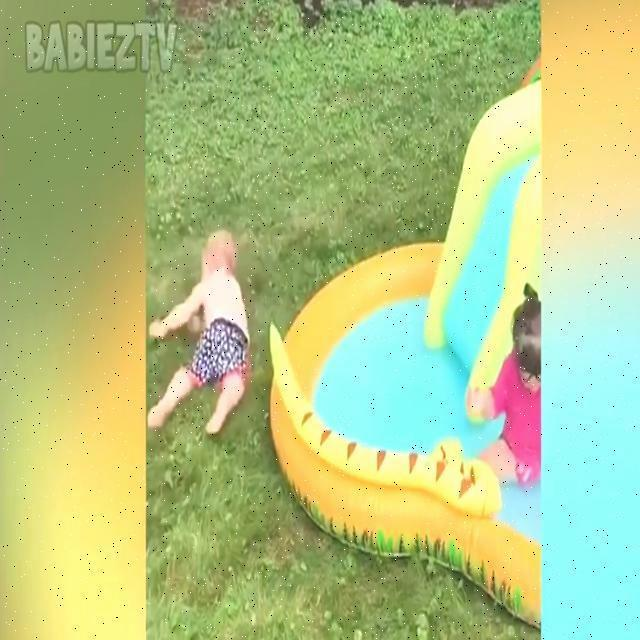child: (151, 233, 250, 440), (468, 281, 541, 498)
